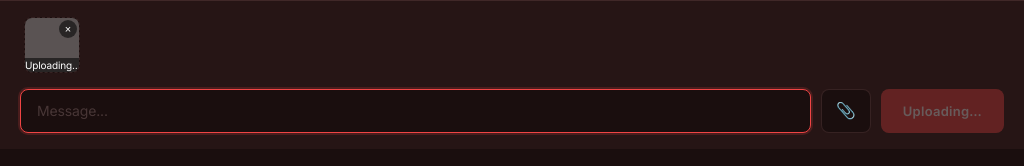
comfortable paste upload (🎯T1025) › removing an uploading chip aborts its request and leaves nothing behind
This screenshot has width=1024, height=166.
What coordinates should you click on to do the following:
click the button "×"
I would click on:
 (68, 29)
Its box is [59,20,77,38].
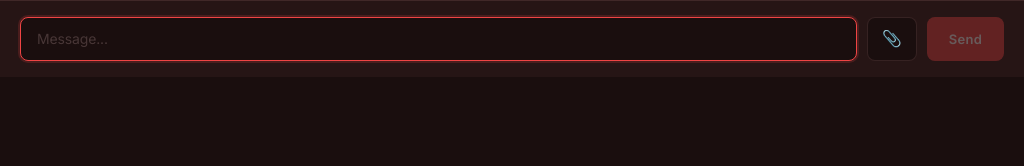
Result: no messages with class "img-chip" are shown
Result: the message "Uploading… ×" is gone
Result: the text "Uploading…" is gone
